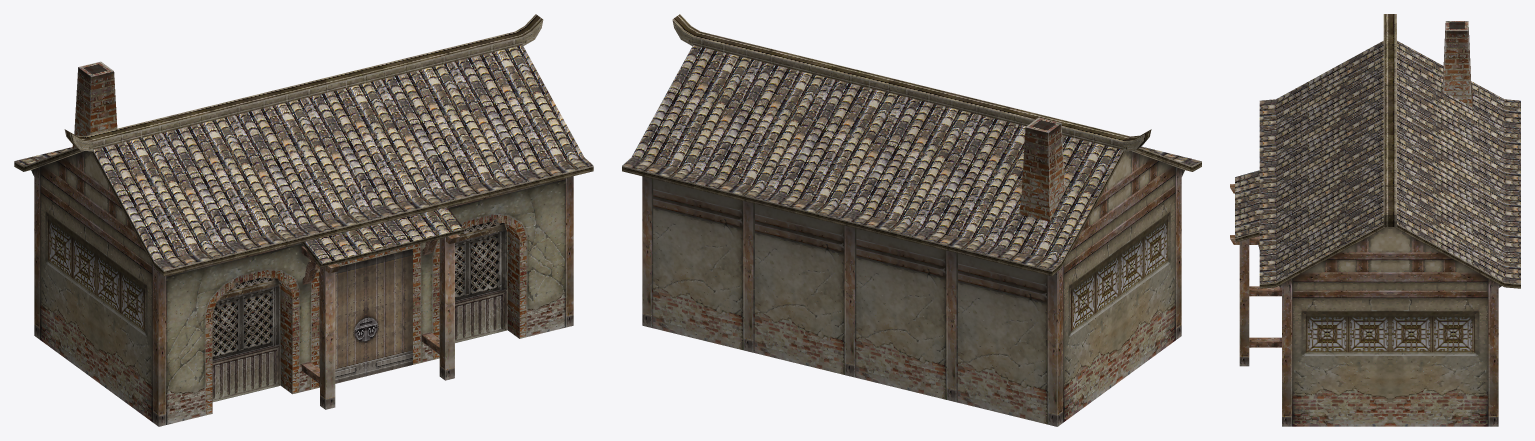
Rendered from auction_house01.FBX.
The picture shows the model from 3 angles, left to right: view 1: azimuth 30°, elevation 25°; view 2: azimuth 150°, elevation 25°; view 3: azimuth 270°, elevation 25°; orthographic projection. The views are drawn at different scales.
Visible parts, largest first — view 1: auction_house01; view 2: auction_house01; view 3: auction_house01.
Boxes of the visible parts, bbox=[...] form: auction_house01: bbox=[14, 14, 593, 426]; auction_house01: bbox=[622, 14, 1201, 426]; auction_house01: bbox=[1230, 14, 1520, 426].
Size of the model in its own units: 1440 by 804 by 881.
5 materials, 5 textured.
